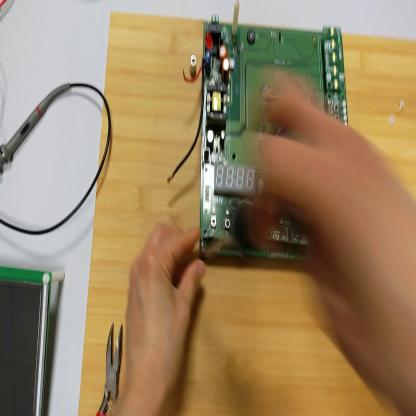hand: (231, 79, 413, 394), (121, 223, 206, 393)
low voltage board: (168, 8, 351, 258)
oscilloscope probe tip: (2, 84, 68, 174)
pliers: (98, 320, 122, 414)
screwdriver-: (198, 191, 287, 260)
working area: (79, 7, 416, 416)
